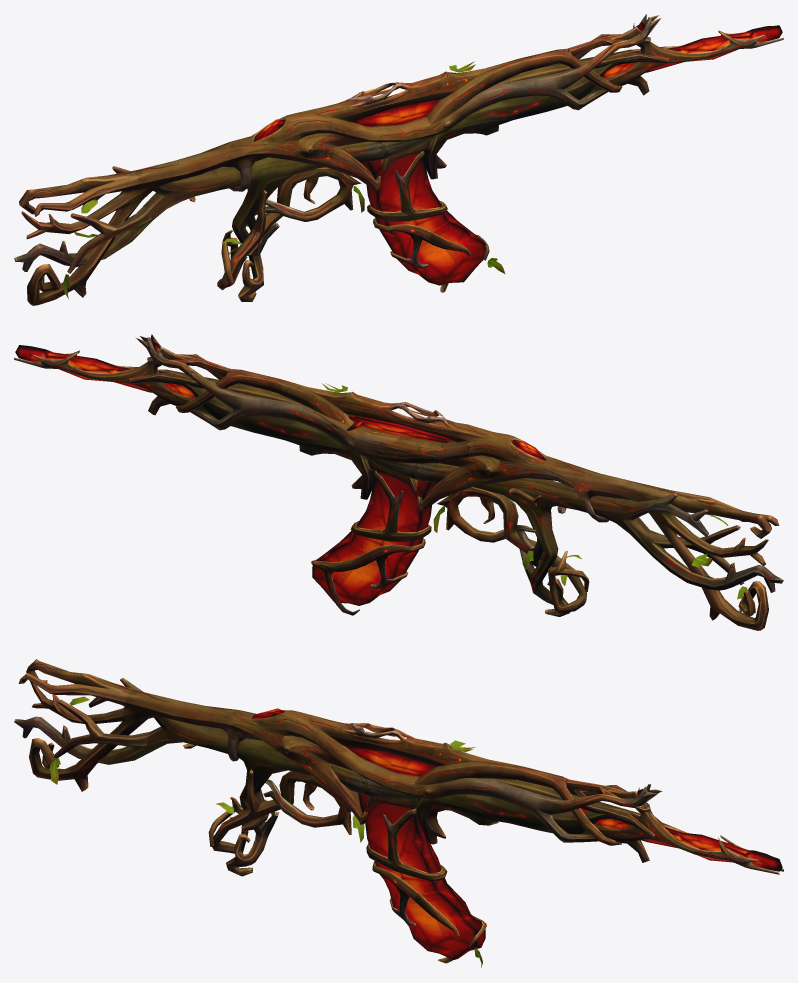
File: gaia v1.glb
The picture shows the model from 3 angles, top to bottom: view 1: azimuth 30°, elevation 25°; view 2: azimuth 150°, elevation 25°; view 3: azimuth 330°, elevation 25°; orthographic projection.
Visible parts, largest first — view 1: Gaia-Vandal-Orange-Main_1, Gaia-Vandal-Orange-Main-Mag_0; view 2: Gaia-Vandal-Orange-Main_1, Gaia-Vandal-Orange-Main-Mag_0; view 3: Gaia-Vandal-Orange-Main_1, Gaia-Vandal-Orange-Main-Mag_0.
Boxes of the visible parts, bbox=[...] form: Gaia-Vandal-Orange-Main_1: bbox=[14, 14, 783, 305]; Gaia-Vandal-Orange-Main-Mag_0: bbox=[362, 151, 505, 292]; Gaia-Vandal-Orange-Main_1: bbox=[14, 334, 783, 630]; Gaia-Vandal-Orange-Main-Mag_0: bbox=[311, 470, 436, 615]; Gaia-Vandal-Orange-Main_1: bbox=[14, 659, 783, 876]; Gaia-Vandal-Orange-Main-Mag_0: bbox=[358, 793, 486, 967].
Size of the model in its own units: 1.32 by 0.375 by 0.0841.
2 materials, 2 textured.
